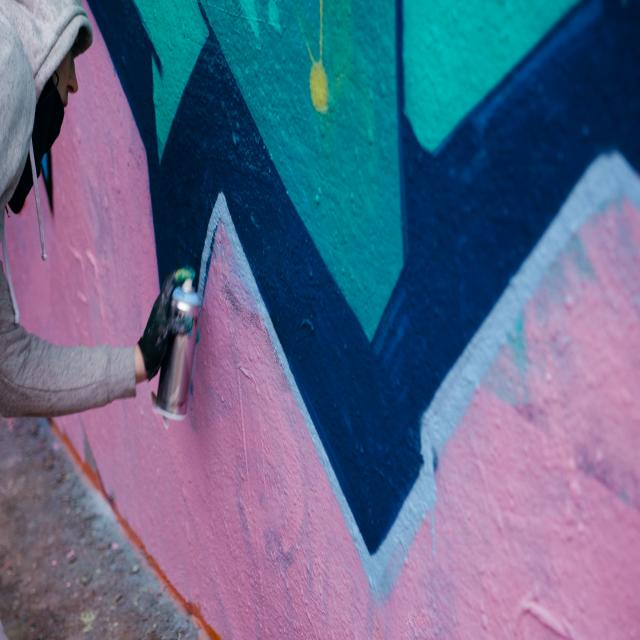adult: (0, 0, 207, 421)
